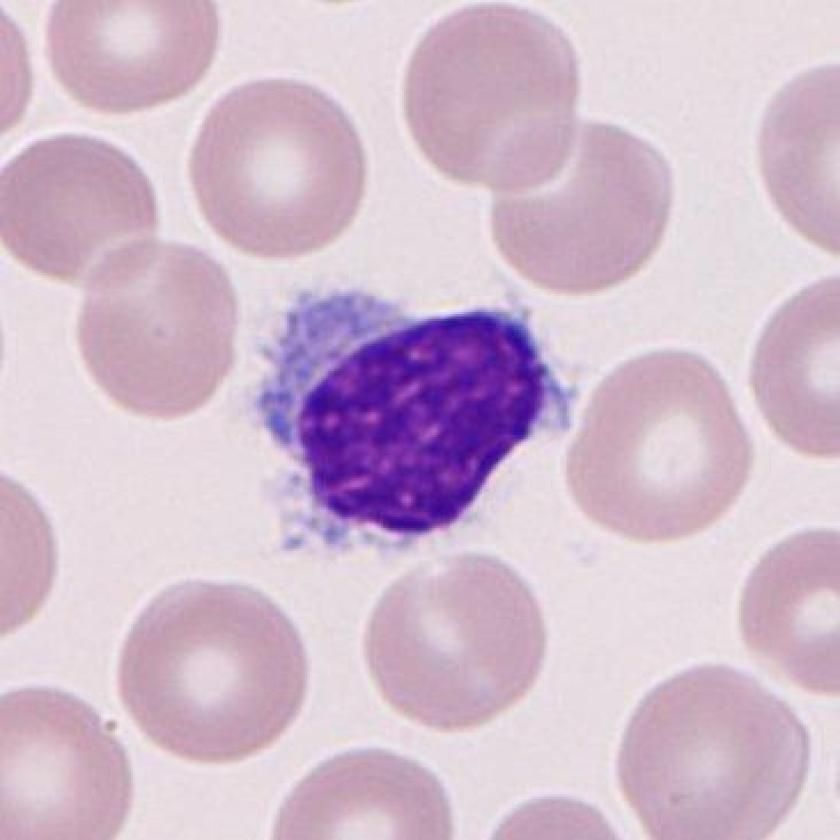lymphocyte: (237, 277, 582, 570)
